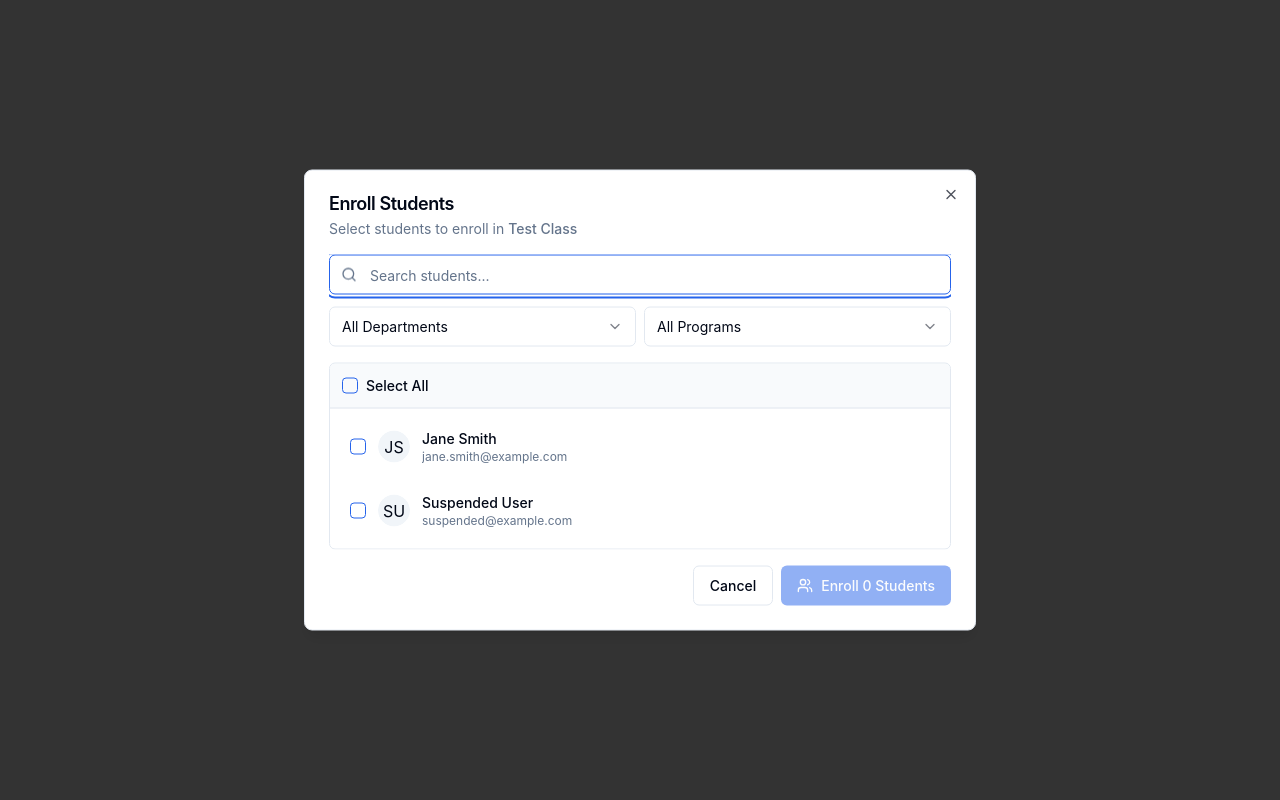
Test case: EnrollStudentsDialog › allows selecting all students
Expected: the text "Jane Smith" is shown, top-left (422, 430), bottom-right (497, 446)
Click the checkbox named "select all" at (350, 386), box top-left (342, 378), bottom-right (358, 394)
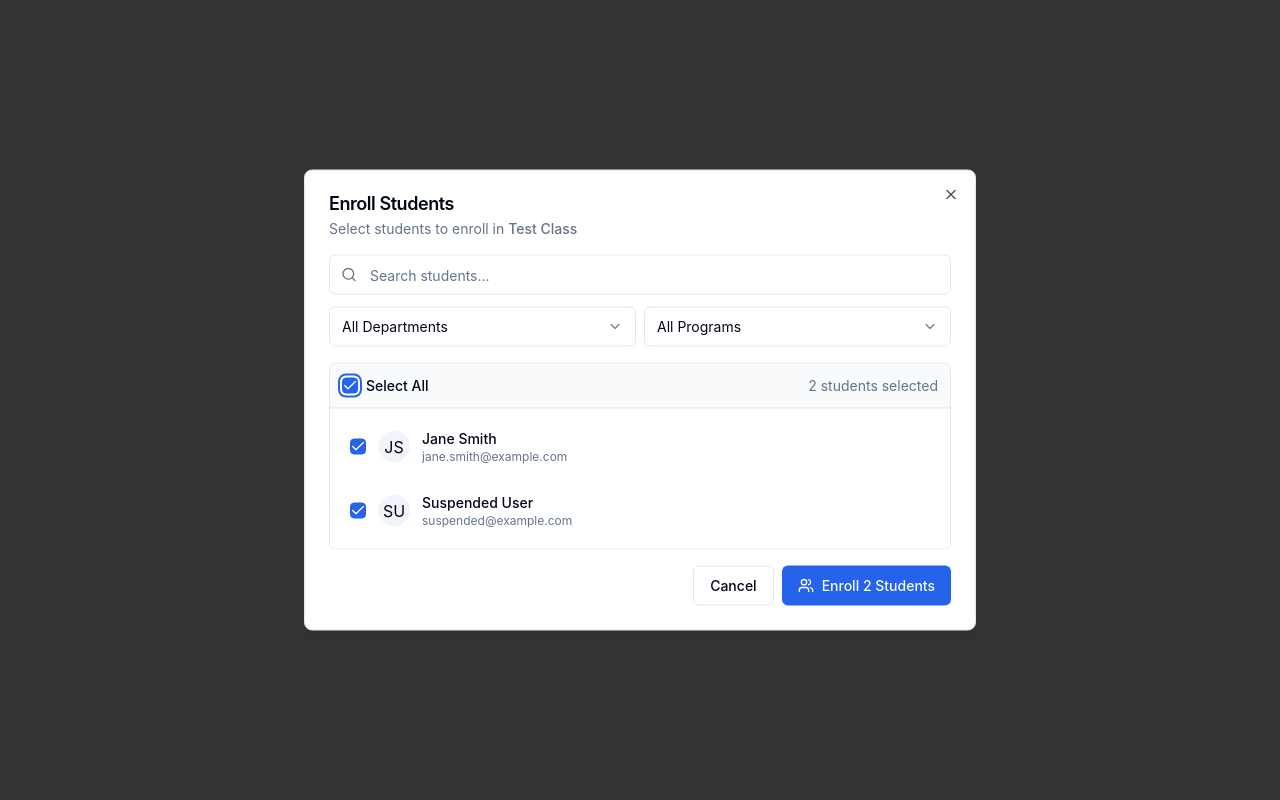
Expected: the checkbox in the row of "jane.smith@example.com" is checked, top-left (350, 438), bottom-right (366, 454)
Expected: the checkbox in the row of "suspended@example.com" is checked, top-left (350, 502), bottom-right (366, 518)
